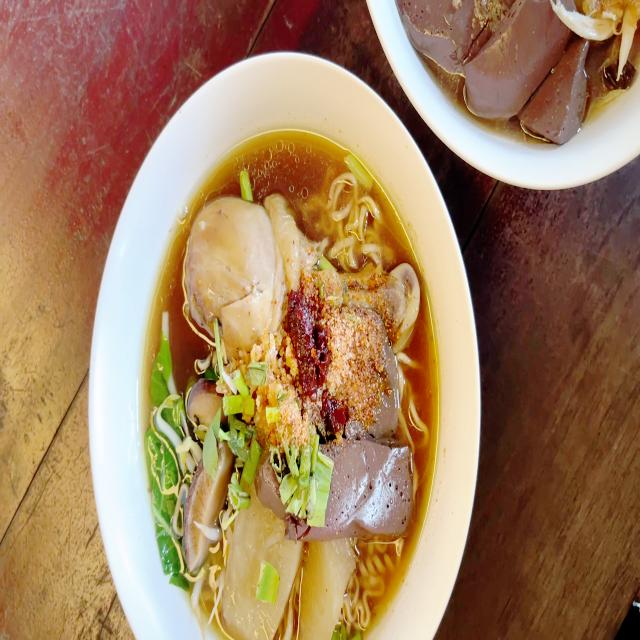boiled_chicken_blood_jelly: (394, 0, 602, 145), (322, 447, 412, 540)
chicken_drumstick: (182, 196, 424, 348)
daikon_radish: (223, 519, 348, 628)
noodle: (155, 130, 432, 630)
